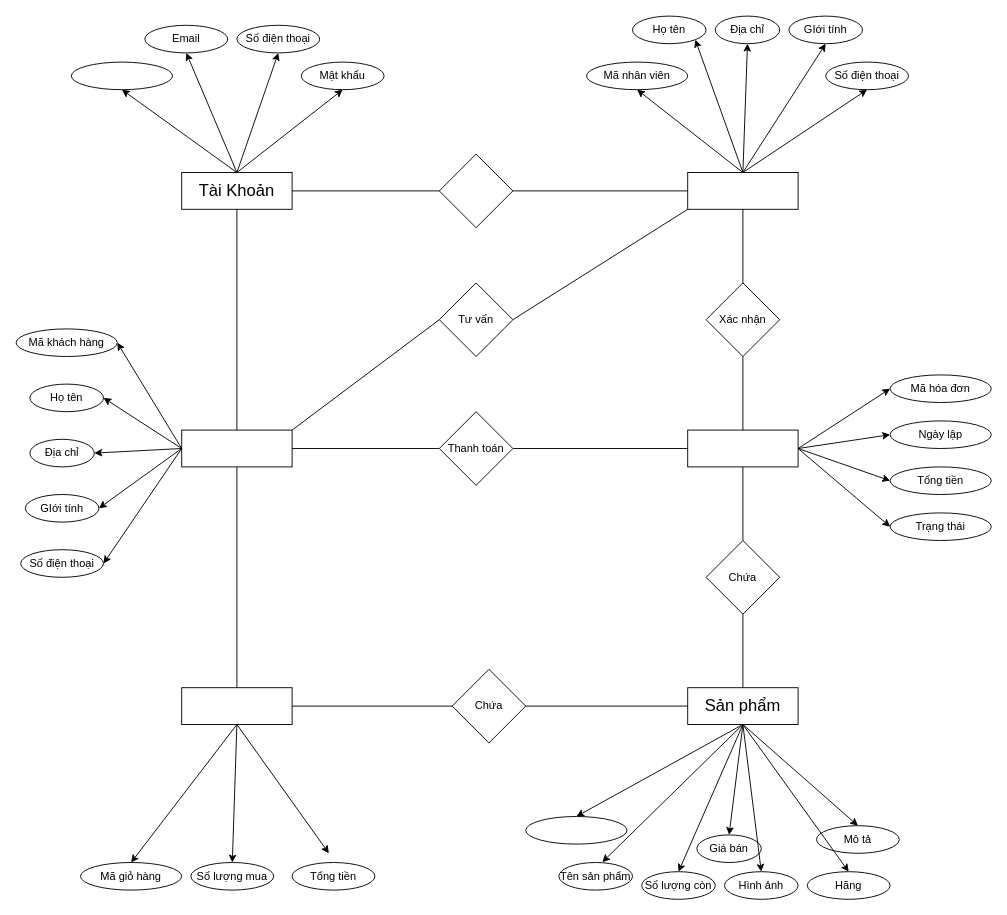
Image size: 1007x915. Some labels were removed from this diagram. The centre of each missing label's shape, as x and y in pixels:
"Giỏ hàng" goes at point (236, 705).
"Hóa đơn" goes at point (742, 448).
"Khách hàng" goes at point (236, 448).
"Mã sản phẩm" goes at point (576, 830).
"Mã tài khoản" goes at point (121, 75).
"Nhân viên" goes at point (742, 190).
"Sử dụng" goes at point (475, 190).
